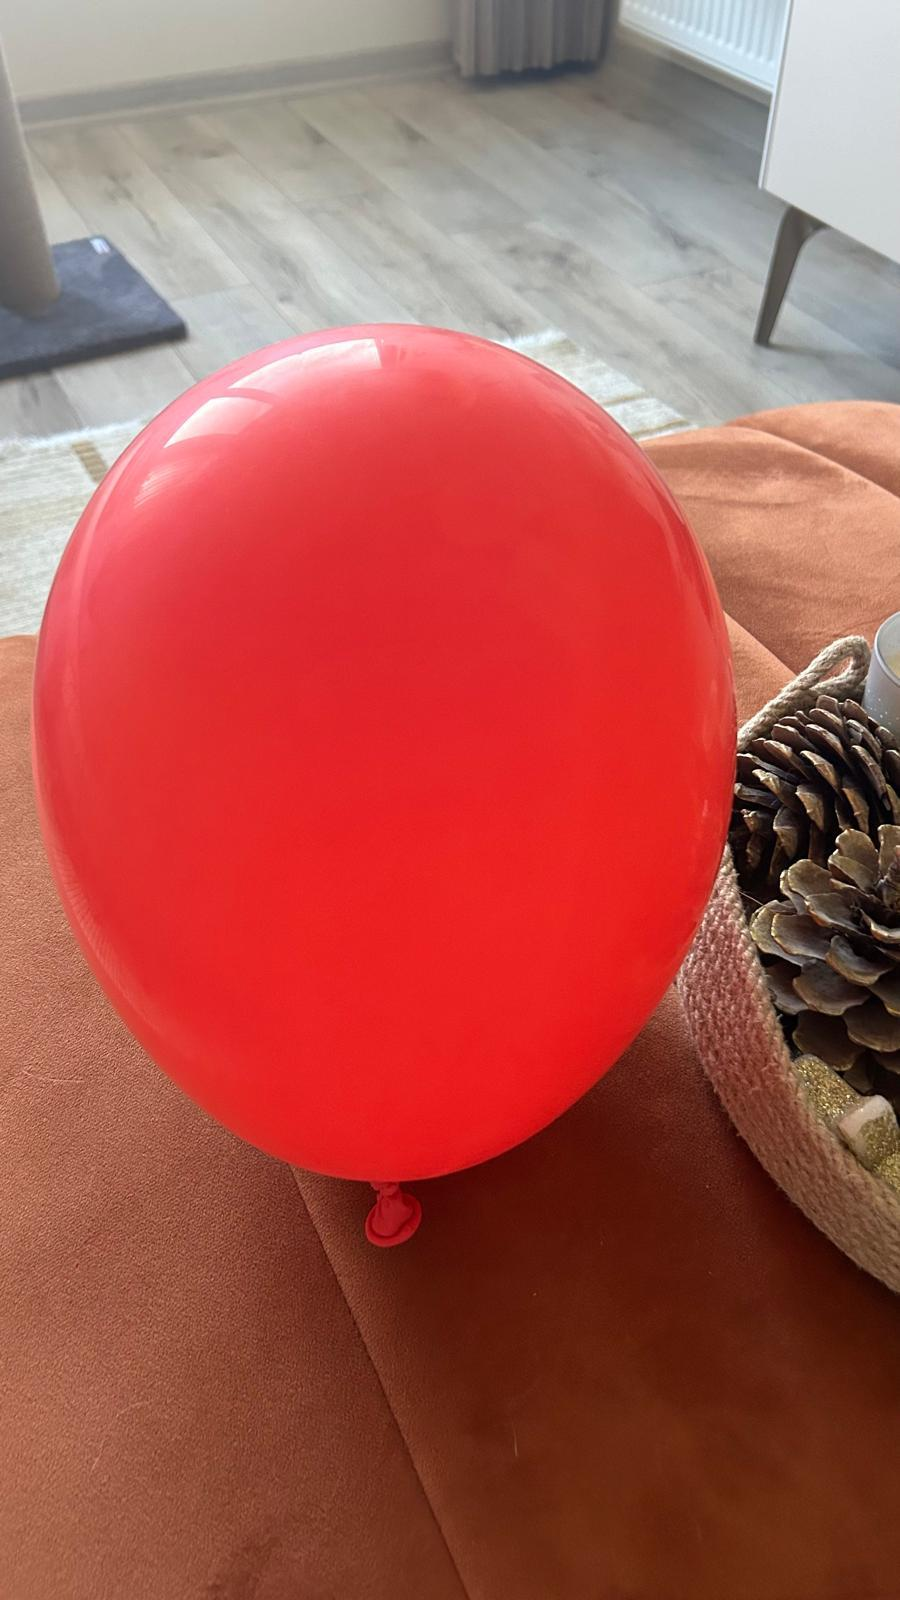red: (27, 304, 765, 1271)
